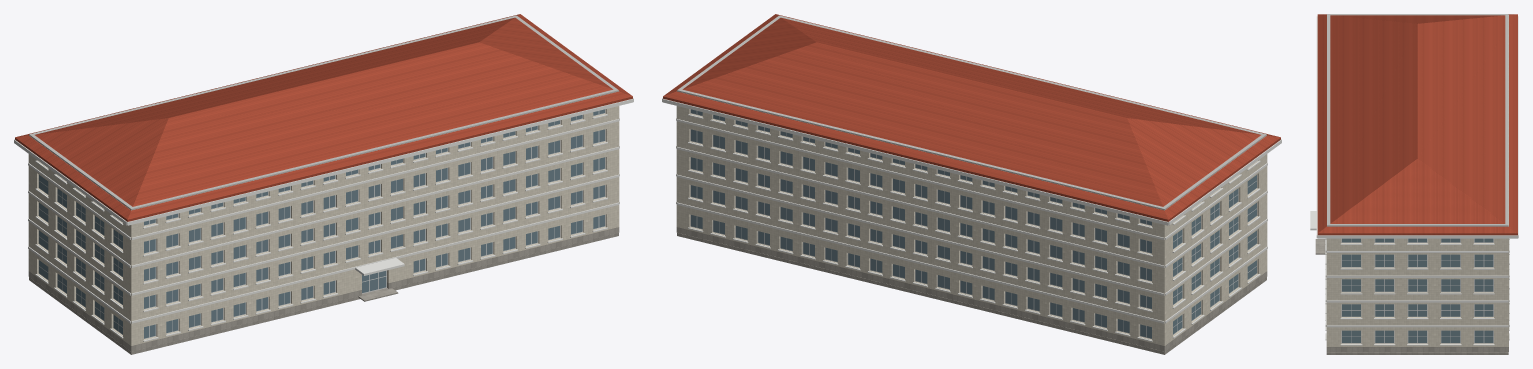
3 renders of one model, left to right at view 1: azimuth 30°, elevation 25°; view 2: azimuth 150°, elevation 25°; view 3: azimuth 270°, elevation 25°, orthographic. The views are drawn at different scales.
Parts seen in each view (by area): view 1: cheongam__roof, cheongam__tilecream, cheongam__glass, cheongam__trim, cheongam__stone, cheongam__frame, cheongam__slab; view 2: cheongam__roof, cheongam__tilecream, cheongam__glass, cheongam__trim, cheongam__stone, cheongam__frame, cheongam__slab; view 3: cheongam__roof, cheongam__tilecream, cheongam__glass, cheongam__trim, cheongam__slab, cheongam__frame, cheongam__stone, cheongam__threshold-front.
Boxes of the visible parts, box(x1,y1,x2,y2) form: cheongam__roof: box(15, 14, 632, 221); cheongam__tilecream: box(28, 96, 619, 345); cheongam__glass: box(39, 109, 604, 338); cheongam__trim: box(14, 98, 633, 341); cheongam__stone: box(28, 227, 619, 354); cheongam__frame: box(38, 109, 605, 339); cheongam__slab: box(29, 15, 618, 210); cheongam__roof: box(663, 14, 1280, 221); cheongam__tilecream: box(676, 96, 1267, 345); cheongam__glass: box(691, 109, 1256, 338); cheongam__trim: box(662, 98, 1281, 341); cheongam__stone: box(676, 227, 1267, 354); cheongam__frame: box(690, 109, 1257, 339); cheongam__slab: box(677, 15, 1266, 210); cheongam__roof: box(1317, 14, 1517, 235); cheongam__tilecream: box(1326, 15, 1508, 346); cheongam__glass: box(1342, 238, 1493, 342); cheongam__trim: box(1310, 16, 1518, 345); cheongam__slab: box(1327, 14, 1508, 226); cheongam__frame: box(1341, 238, 1493, 343); cheongam__stone: box(1326, 347, 1508, 354); cheongam__threshold-front: box(1315, 239, 1325, 254).
Bounding box in the file's own units: 57.18 × 19.16 × 22.89.
8 materials, 3 textured.
